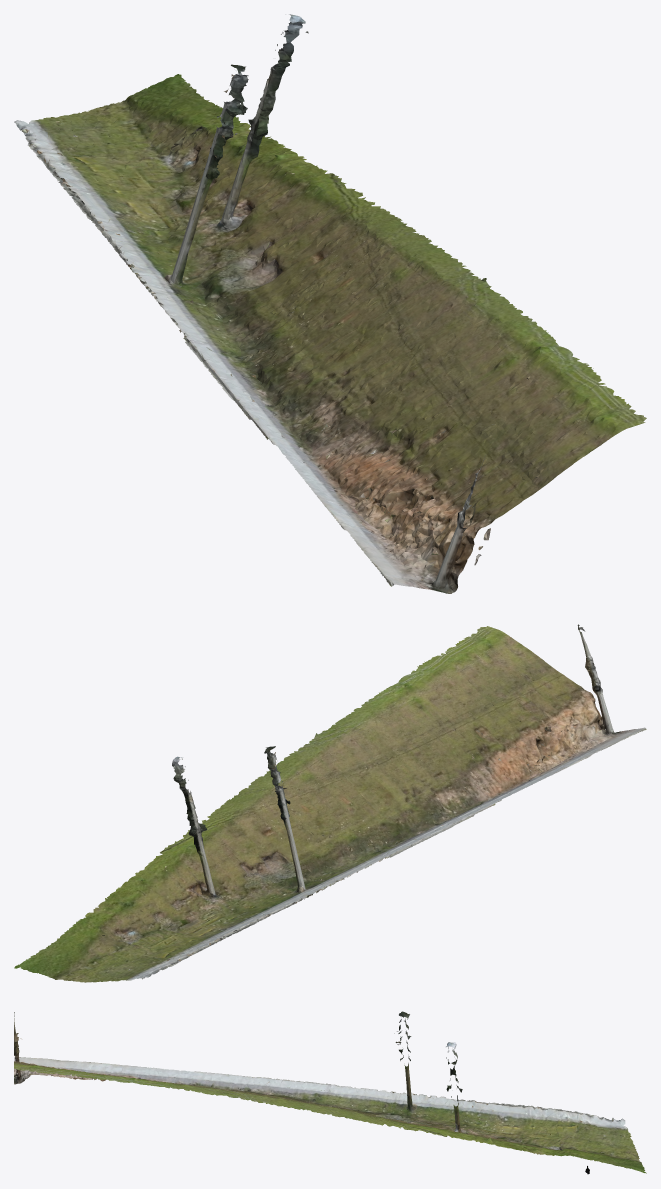
3 renders of one model, top to bottom at view 1: azimuth 30°, elevation 25°; view 2: azimuth 150°, elevation 25°; view 3: azimuth 270°, elevation 25°, orthographic. The views are drawn at different scales.
Bounding box in the file's own units: 13.8 × 7.99 × 36.7.
Materials: 1 (1 with a texture image).
